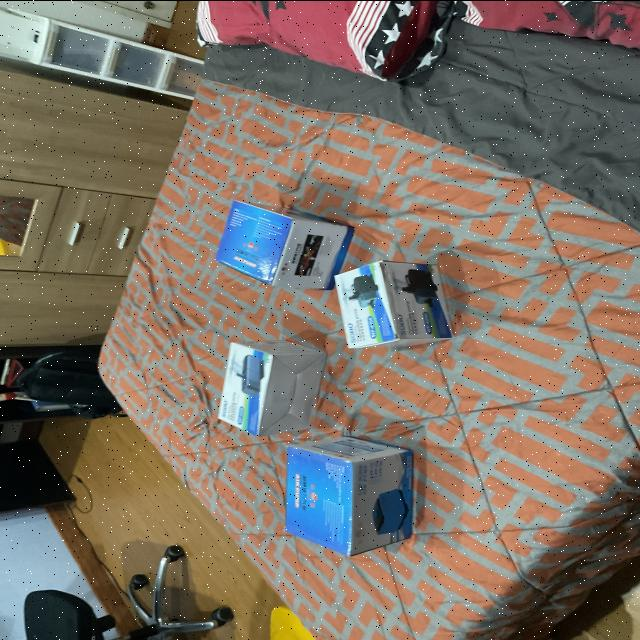SOBO_WP_4200: (210, 326, 334, 438), (325, 246, 450, 354)
YAMANO_LPP_20: (276, 432, 430, 558), (200, 190, 358, 296)
